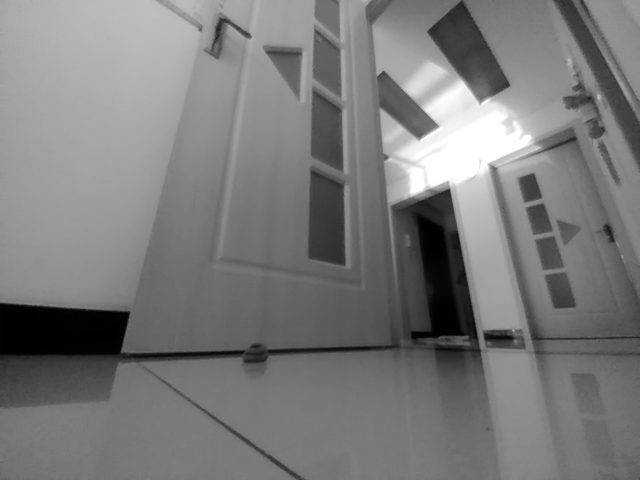pet feces: (241, 341, 269, 364)
